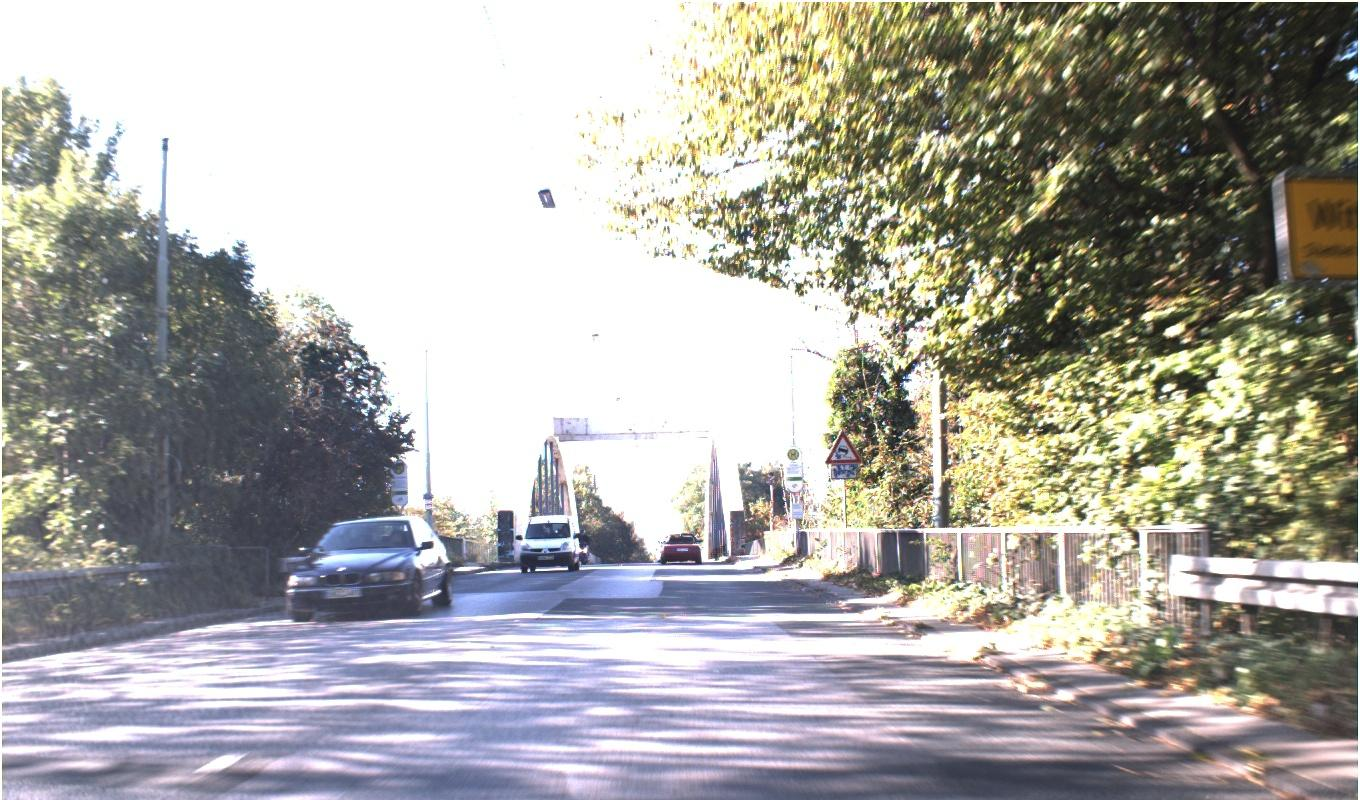slippery road: (394, 197, 1256, 660)
